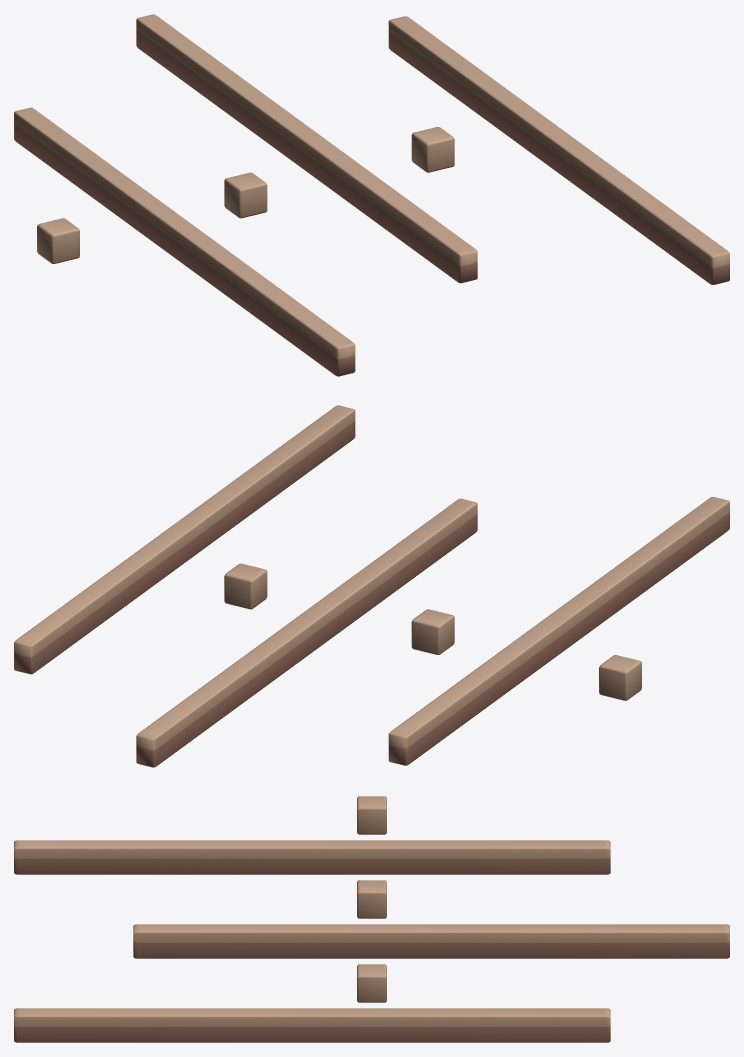
Rendered from Props.fbx.
3 renders of one model, top to bottom at view 1: azimuth 30°, elevation 25°; view 2: azimuth 150°, elevation 25°; view 3: azimuth 270°, elevation 25°, orthographic. The views are drawn at different scales.
Parts seen in each view (by area): view 1: Box20-3_1 (2), Box20-3_1 (1), Box20-3_1, Box1-5 (7), Box1-5 (8), Box1-5 (9); view 2: Box20-3_1, Box20-3_1 (1), Box20-3_1 (2), Box1-5 (8), Box1-5 (7), Box1-5 (9); view 3: Box20-3_1 (2), Box20-3_1, Box20-3_1 (1), Box1-5 (7), Box1-5 (8), Box1-5 (9).
Boxes of the visible parts, x1,y1,x2,y2 form: Box20-3_1 (2): [14, 107, 355, 376]; Box20-3_1 (1): [136, 14, 477, 283]; Box20-3_1: [388, 16, 729, 284]; Box1-5 (7): [224, 172, 267, 218]; Box1-5 (8): [411, 127, 454, 172]; Box1-5 (9): [37, 218, 79, 263]; Box20-3_1: [14, 405, 355, 674]; Box20-3_1 (1): [136, 498, 477, 767]; Box20-3_1 (2): [388, 497, 729, 765]; Box1-5 (8): [224, 563, 267, 609]; Box1-5 (7): [411, 609, 454, 654]; Box1-5 (9): [599, 655, 641, 700]; Box20-3_1 (2): [14, 840, 610, 874]; Box20-3_1: [14, 1008, 610, 1042]; Box20-3_1 (1): [133, 924, 729, 958]; Box1-5 (7): [357, 880, 386, 918]; Box1-5 (8): [357, 964, 386, 1002]; Box1-5 (9): [357, 796, 386, 834].
Bounding box in the file's own units: 26.25 × 1.5 × 36.
